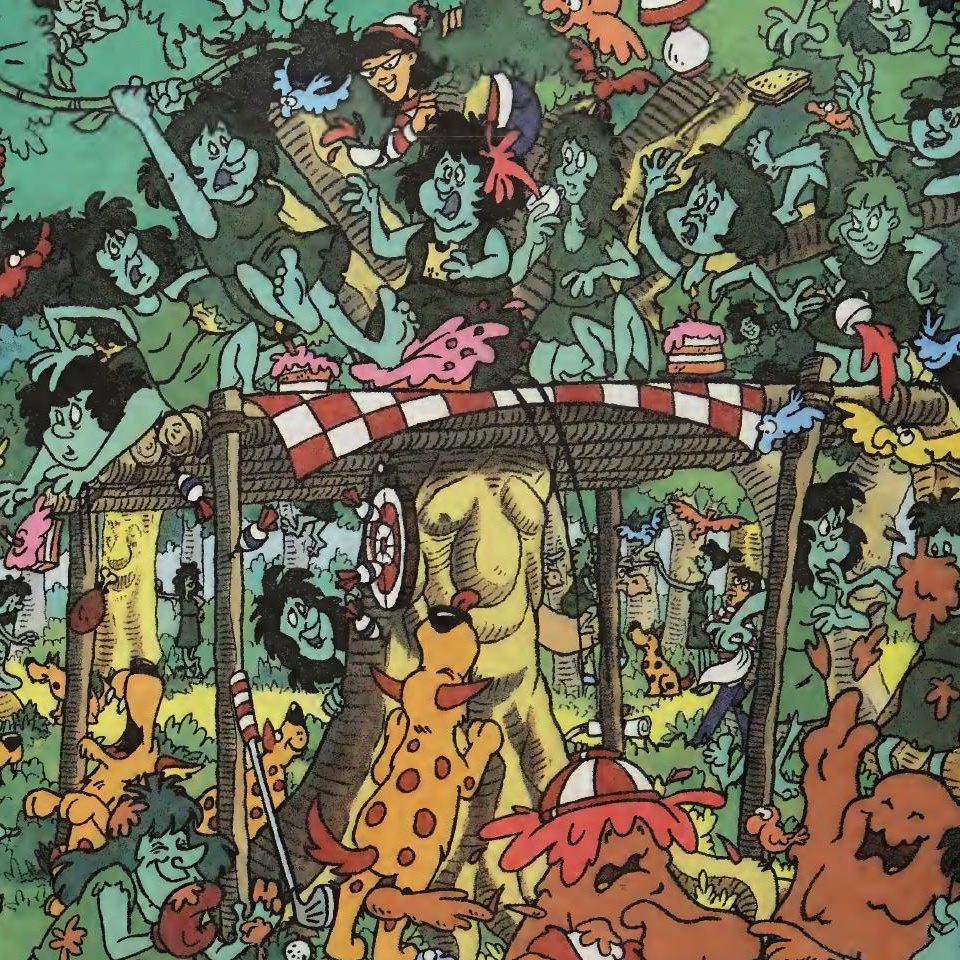waldo: (710, 568, 766, 632)
